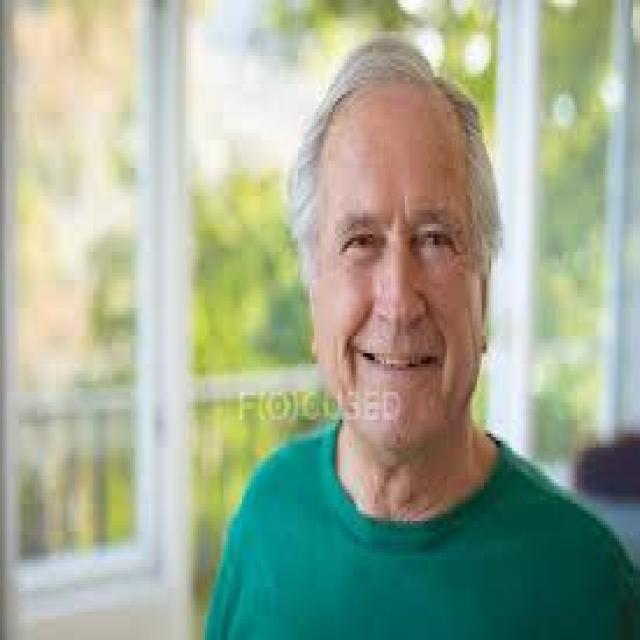happy: (280, 91, 501, 489)
